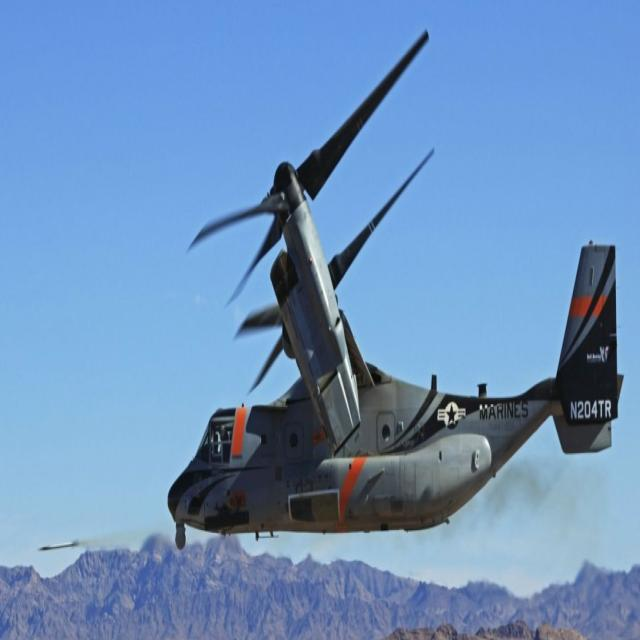MIL_Plane: (166, 30, 624, 549)
